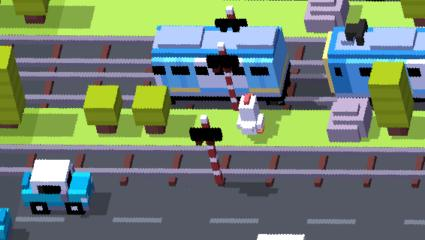obstacle: (151, 25, 292, 106), (322, 19, 425, 104), (20, 159, 96, 216), (368, 61, 415, 136), (0, 45, 27, 128), (82, 85, 124, 135), (327, 97, 372, 142), (131, 85, 171, 135), (304, 0, 351, 32), (12, 0, 50, 24), (401, 0, 425, 28), (0, 207, 13, 240)
